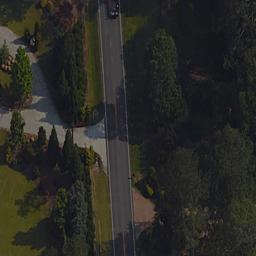Car: (105, 1, 124, 17)
Double Solid Yellow Line: (105, 23, 130, 255)
